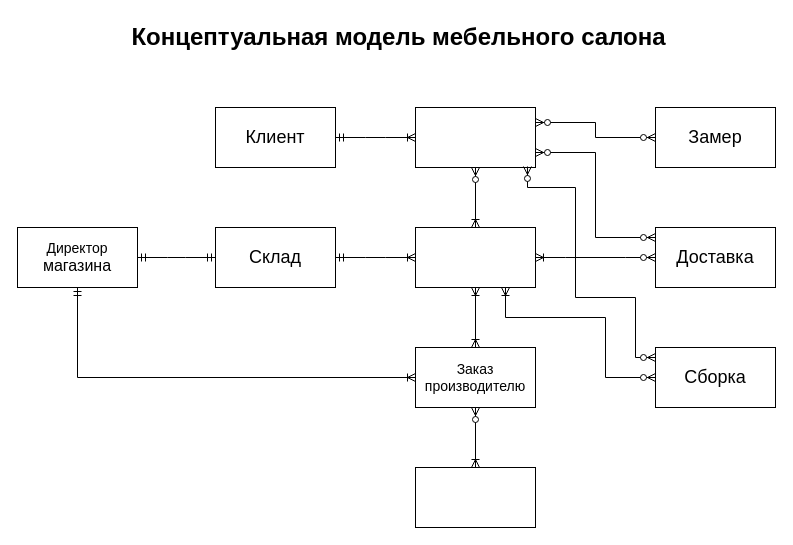
Image size: 793x545. Some labels were removed from this diagram. The centre of each missing label's shape, as x and y in pixels:
"Заказ клиента" belongs at pixel 475 137.
"Производитель" belongs at pixel 475 497.
"Товар" belongs at pixel 475 257.
